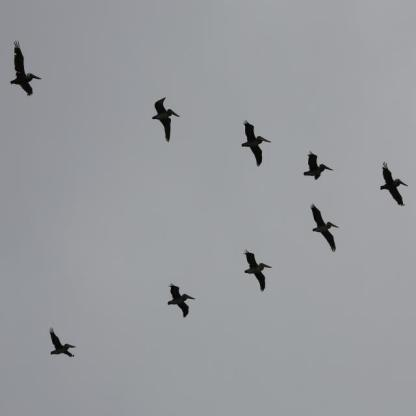bird: (7, 37, 46, 104), (147, 92, 186, 153), (239, 242, 276, 296), (309, 198, 344, 255), (160, 274, 197, 325), (378, 161, 413, 213), (239, 118, 271, 172), (44, 323, 81, 362), (298, 150, 339, 183)
